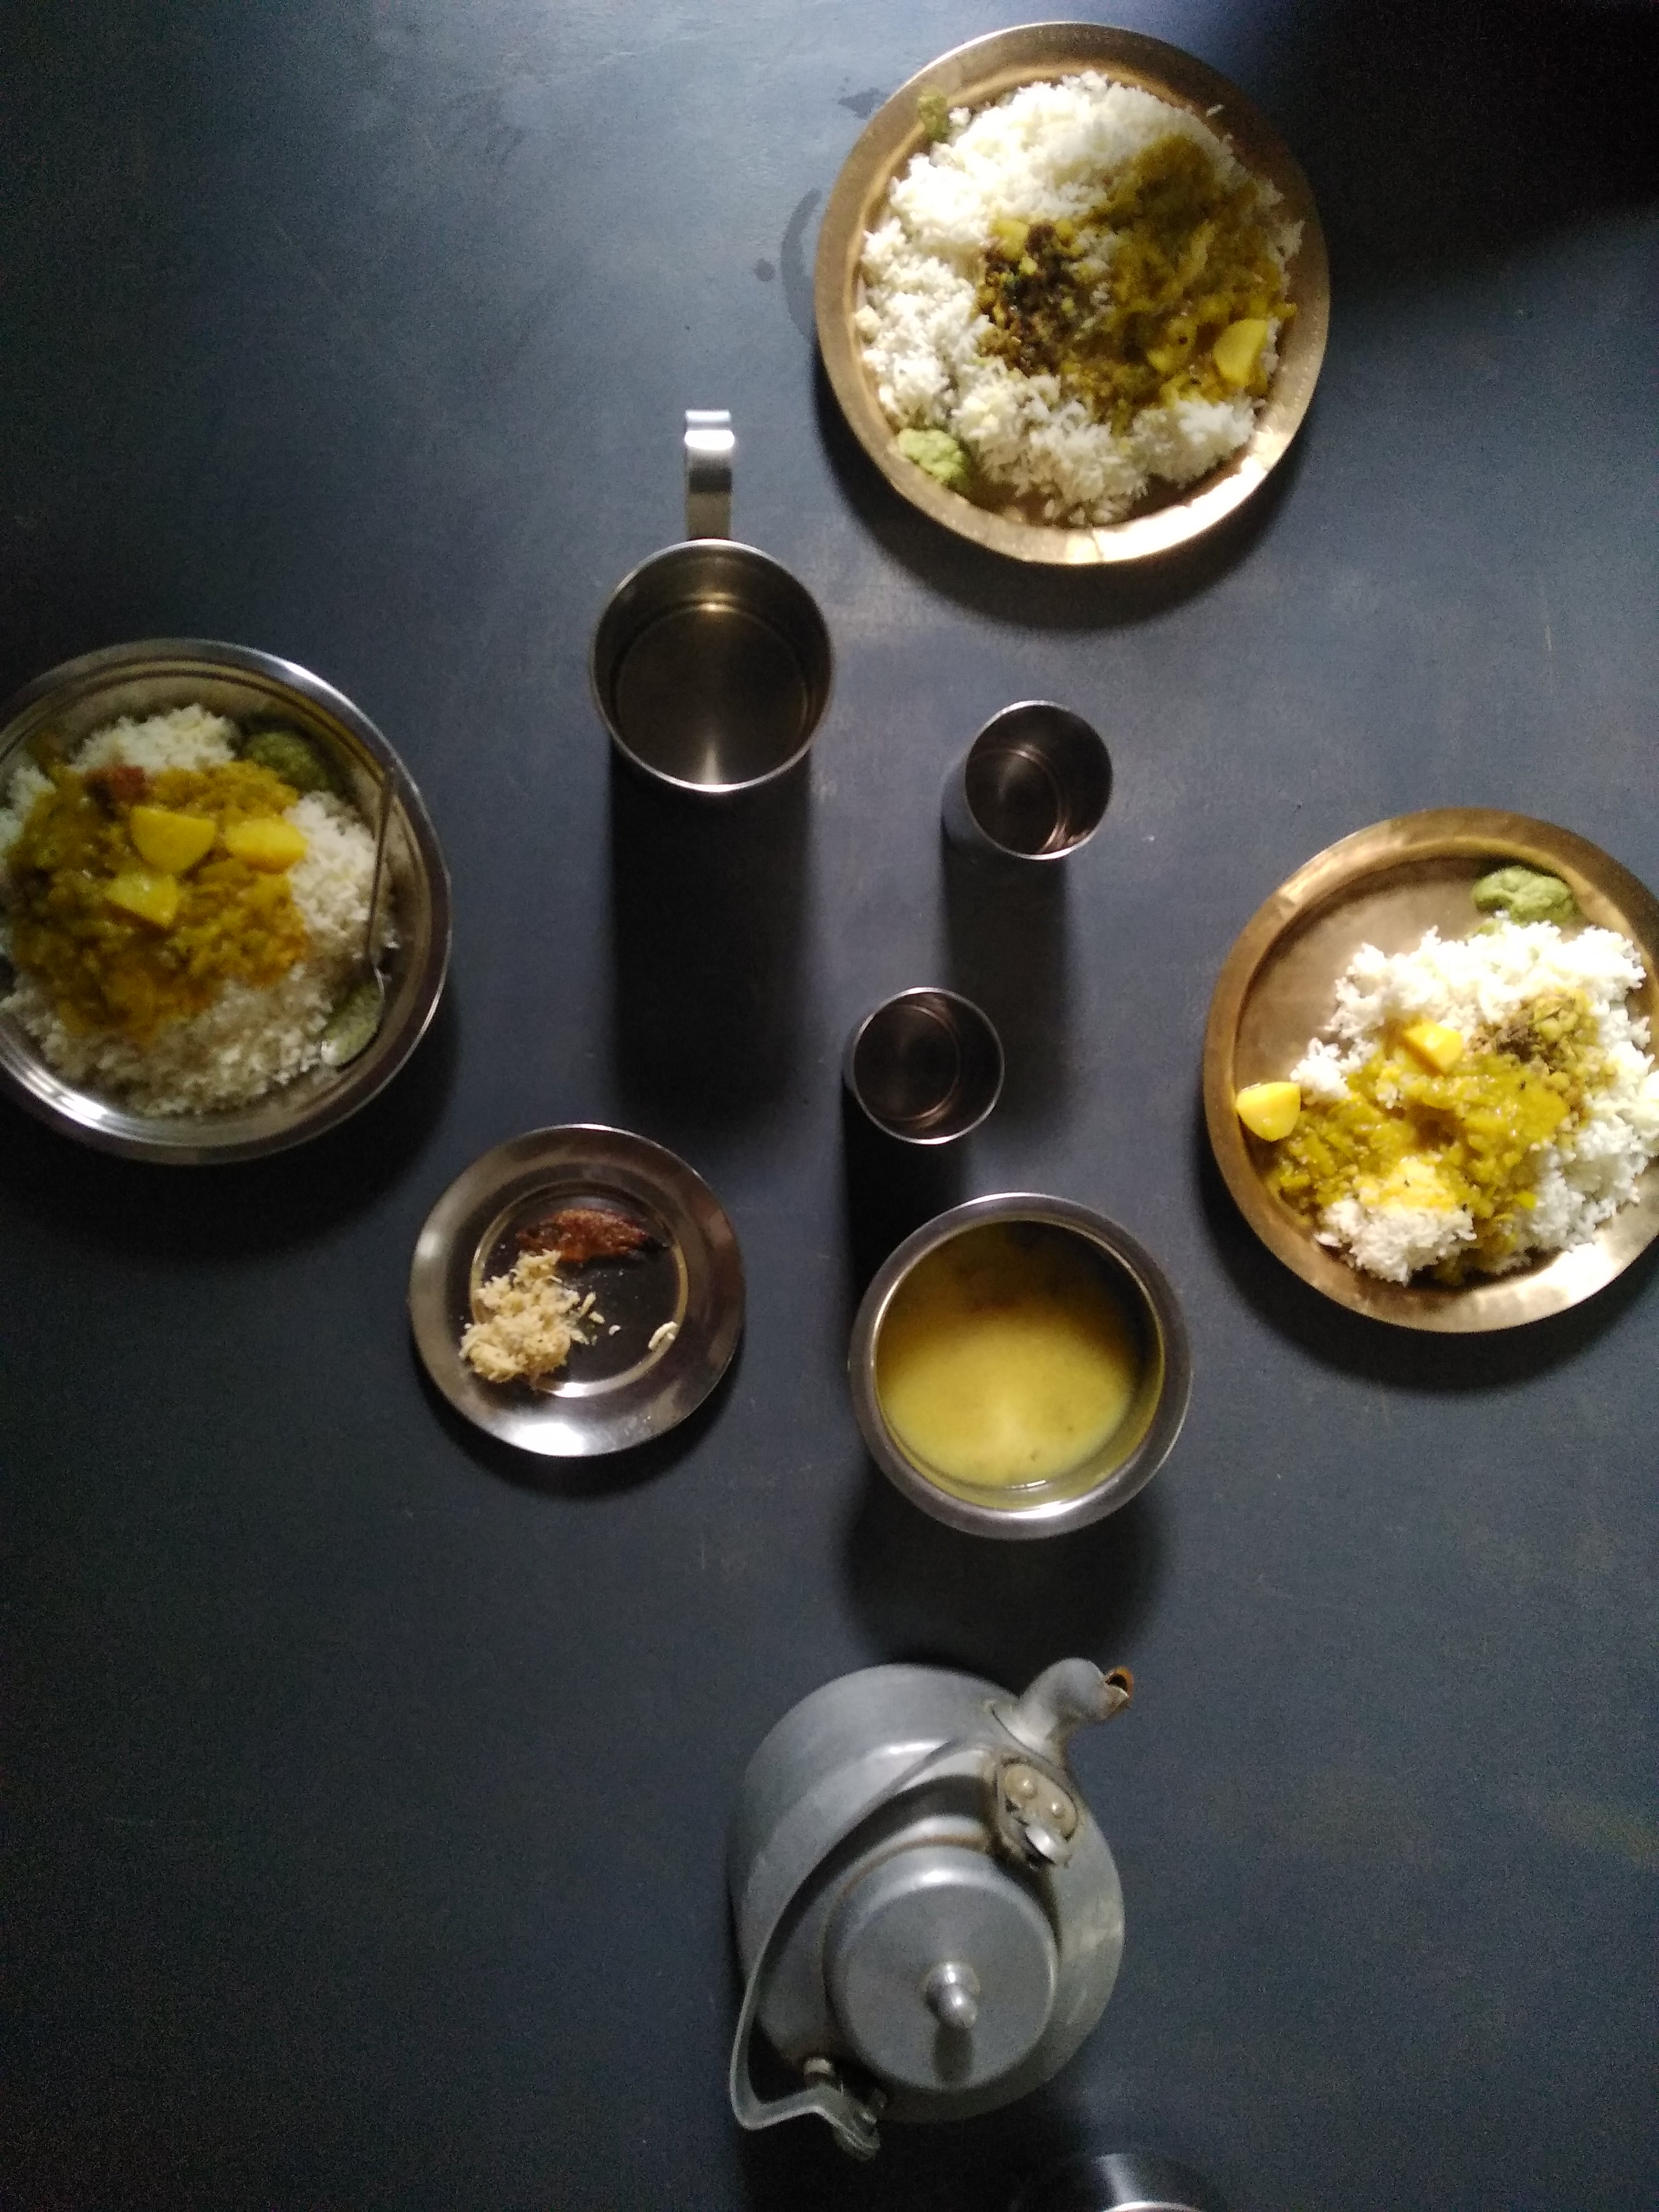food: (842, 59, 1317, 536), (1222, 848, 1659, 1296), (0, 685, 403, 1132), (875, 1223, 1162, 1498), (450, 1184, 680, 1402)
